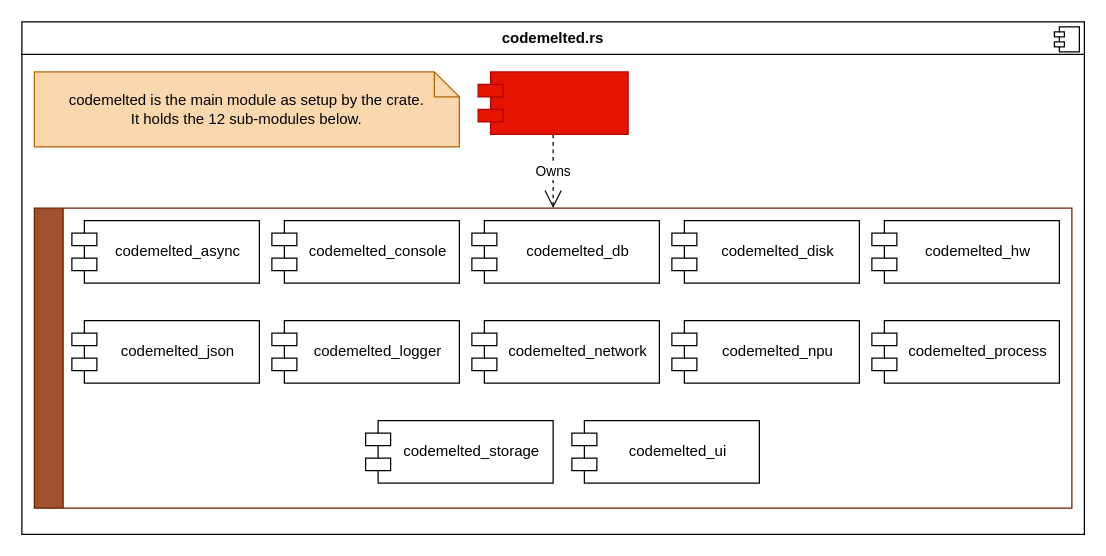
The diagram is 1106 pixels wide and 556 high, and some of its shapes have lost their labels. The shapes that lost their labels are listed below. From the top down, each one's box as (x1, y1, x2, y2) in pixels, then its label:
(477, 71, 628, 134): codemelted
(33, 207, 1072, 508): Sub Modules
